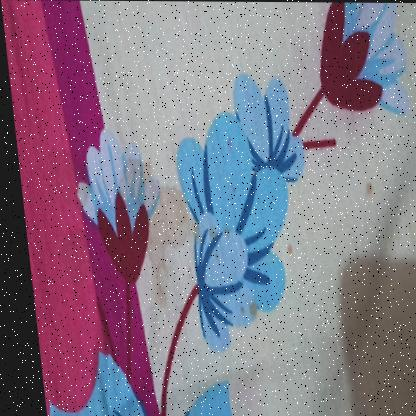spot: (126, 183, 187, 260), (108, 156, 153, 215), (138, 262, 163, 309), (180, 213, 197, 248), (71, 178, 87, 208), (238, 294, 253, 324), (274, 236, 289, 262), (200, 223, 214, 247), (357, 177, 371, 199), (220, 134, 230, 154), (222, 182, 234, 198), (215, 223, 226, 240), (229, 299, 238, 318), (207, 249, 213, 264)
